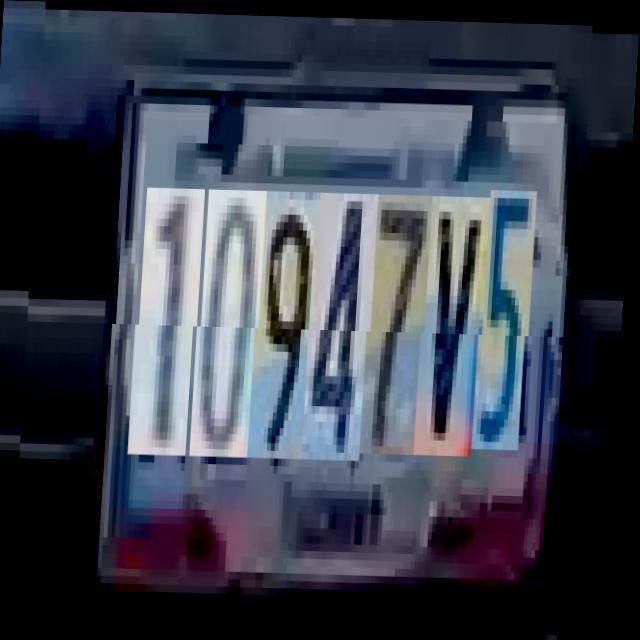1: (138, 186, 208, 454)
4: (311, 191, 381, 458)
5: (481, 187, 540, 447)
7: (369, 192, 435, 452)
9: (257, 189, 323, 457)
O: (199, 188, 269, 456)
V: (423, 194, 493, 454)
